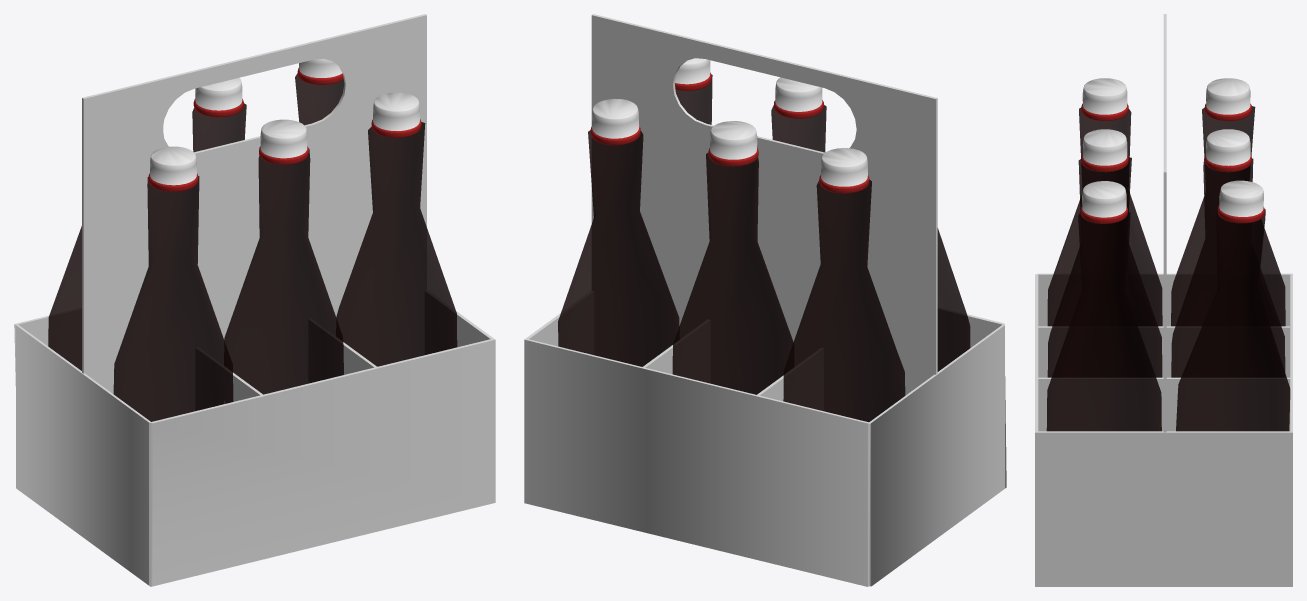
Rendered from Bierflasche.fbx.
The picture shows the model from 3 angles, left to right: view 1: azimuth 30°, elevation 25°; view 2: azimuth 150°, elevation 25°; view 3: azimuth 270°, elevation 25°; orthographic projection. The views are drawn at different scales.
Parts seen in each view (by area): view 1: Tragepappe, Lathe-NURBS.6, Lathe-NURBS.2, Lathe-NURBS.4, Lathe-NURBS.12, Ring.2, Ring.3, Ring, Lathe-NURBS.10, Lathe-NURBS.8, Ring.5, Ring.4; view 2: Tragepappe, Lathe-NURBS.12, Lathe-NURBS.10, Lathe-NURBS.8, Lathe-NURBS.6, Ring.4, Ring.5, Ring.6, Lathe-NURBS.4, Ring.2, Ring, Lathe-NURBS.2; view 3: Tragepappe, Lathe-NURBS.2, Lathe-NURBS.8, Lathe-NURBS.10, Lathe-NURBS.4, Lathe-NURBS.6, Lathe-NURBS.12, Ring.3, Ring.2, Ring.4, Ring.5, Ring (+1 smaller).
Boxes of the visible parts, x1,y1,x2,y2 form: Tragepappe: (14, 14, 495, 586); Lathe-NURBS.6: (113, 176, 233, 421); Lathe-NURBS.2: (336, 122, 457, 366); Lathe-NURBS.4: (224, 149, 343, 394); Lathe-NURBS.12: (48, 226, 81, 370); Ring.2: (259, 119, 308, 164); Ring.3: (148, 146, 198, 191); Ring: (371, 92, 421, 137); Lathe-NURBS.10: (192, 103, 246, 152); Lathe-NURBS.8: (295, 73, 344, 125); Ring.5: (193, 78, 243, 117); Ring.4: (297, 58, 343, 84); Tragepappe: (524, 14, 1006, 586); Lathe-NURBS.12: (783, 179, 905, 422); Lathe-NURBS.10: (672, 153, 793, 394); Lathe-NURBS.8: (558, 130, 679, 366); Lathe-NURBS.6: (937, 228, 970, 371); Ring.4: (590, 98, 640, 145); Ring.5: (708, 121, 758, 166); Ring.6: (819, 148, 869, 193); Lathe-NURBS.4: (771, 105, 826, 152); Ring.2: (774, 77, 823, 118); Ring: (675, 58, 711, 90); Lathe-NURBS.2: (675, 75, 712, 124); Tragepappe: (1035, 14, 1292, 586); Lathe-NURBS.2: (1046, 211, 1161, 431); Lathe-NURBS.8: (1176, 208, 1290, 431); Lathe-NURBS.10: (1171, 156, 1285, 377); Lathe-NURBS.4: (1047, 157, 1162, 377); Lathe-NURBS.6: (1047, 107, 1162, 326); Lathe-NURBS.12: (1171, 106, 1285, 326); Ring.3: (1081, 78, 1128, 121); Ring.2: (1081, 129, 1128, 172); Ring.4: (1217, 180, 1264, 223); Ring.5: (1204, 129, 1251, 172); Ring: (1080, 181, 1127, 223).
Bounding box in the file's own units: 110 × 133 × 75.
